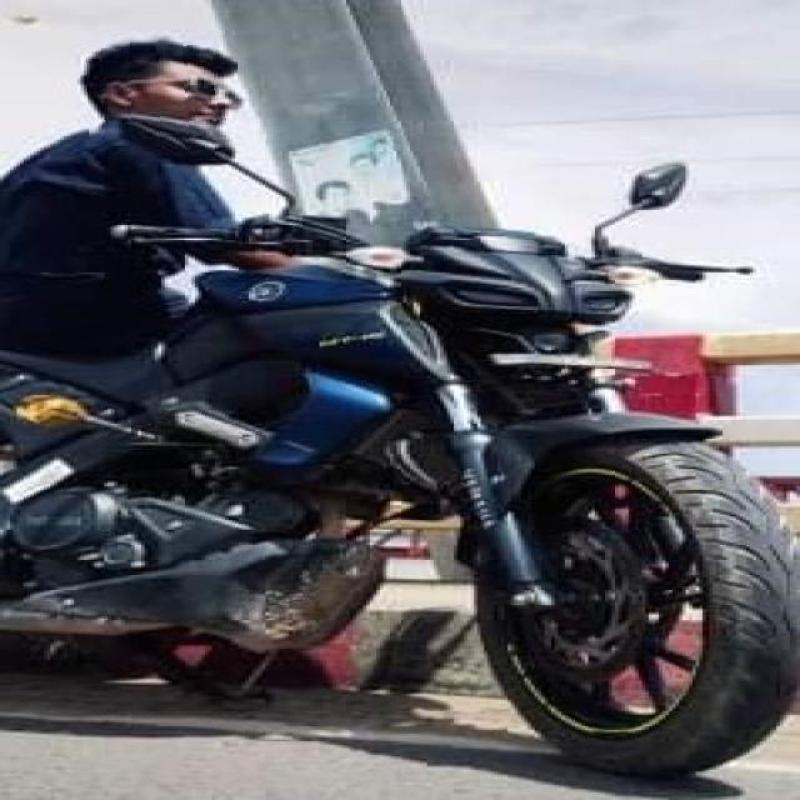nohelmet: (87, 34, 289, 144)
